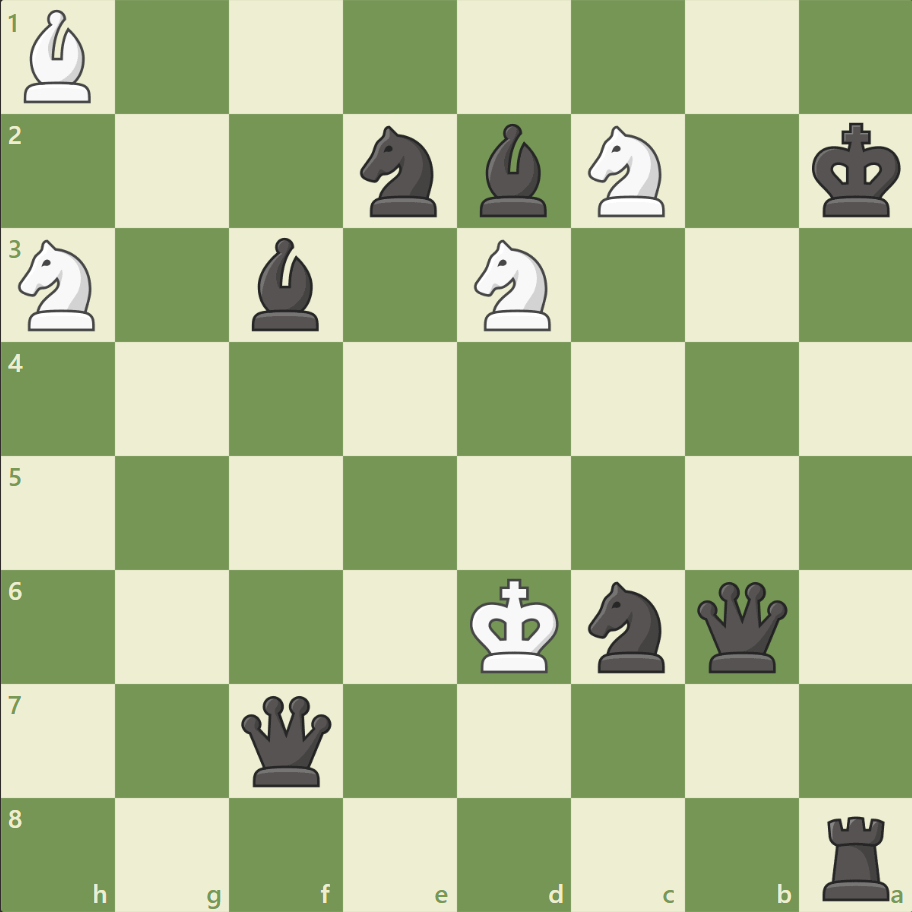B: (17, 6, 101, 109)
K: (465, 571, 565, 679)
N: (465, 234, 562, 337), (11, 234, 108, 337), (579, 121, 676, 223)
b: (244, 233, 328, 336), (471, 120, 555, 222)
k: (806, 117, 906, 225)
n: (351, 121, 449, 223), (579, 575, 676, 677)
q: (691, 576, 790, 676), (237, 690, 336, 789)
r: (814, 806, 897, 904)
